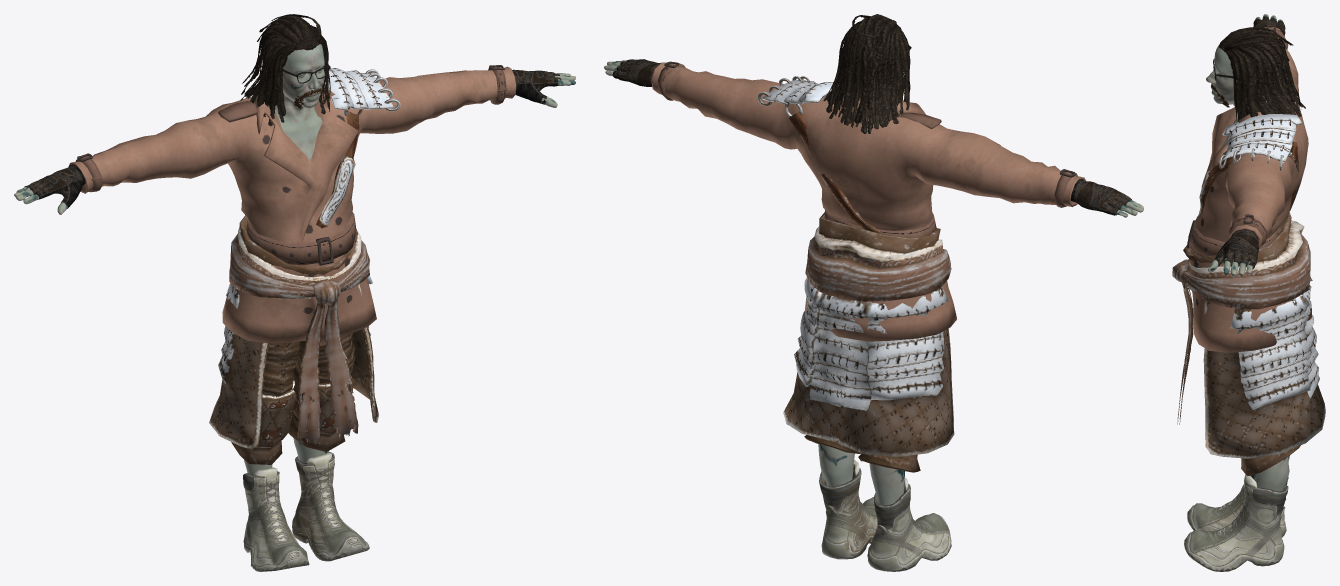
The model's file is char1.obj.
3 views of the same model, side by side, from view 1: azimuth 30°, elevation 25°; view 2: azimuth 150°, elevation 25°; view 3: azimuth 270°, elevation 25° (orthographic). The views are drawn at different scales.
Parts seen in each view (by area): view 1: Tops, Bottoms, Shoes, Body, Hair, Gloves; view 2: Bottoms, Tops, Shoes, Hair, Body, Gloves; view 3: Bottoms, Tops, Shoes, Hair, Body, Gloves.
Part boxes in pixels (x1,y1,x2,y2): Tops: [68, 65, 516, 345]; Bottoms: [209, 68, 400, 464]; Shoes: [243, 452, 369, 571]; Body: [14, 44, 575, 475]; Hair: [240, 14, 330, 125]; Gloves: [24, 69, 561, 208]; Bottoms: [757, 76, 954, 472]; Tops: [651, 61, 1085, 341]; Shoes: [819, 460, 951, 571]; Hair: [823, 14, 910, 133]; Body: [604, 60, 1143, 504]; Gloves: [612, 59, 1131, 215]; Bottoms: [1172, 114, 1325, 475]; Tops: [1187, 24, 1311, 352]; Shoes: [1184, 474, 1288, 571]; Hair: [1218, 27, 1305, 121]; Body: [1206, 14, 1289, 491]; Gloves: [1214, 16, 1285, 269].
Bounding box in the file's own units: 200 × 186 × 49.94.
